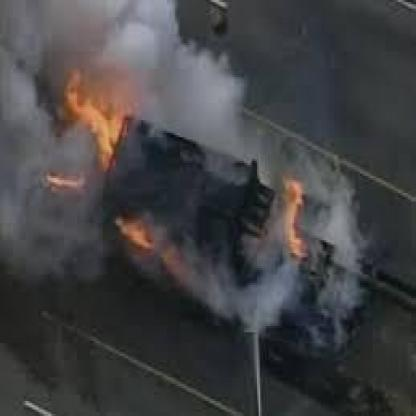fire: (50, 57, 138, 192), (113, 213, 185, 270), (269, 167, 310, 257)
smoke: (1, 78, 91, 274), (1, 0, 175, 77), (183, 47, 244, 142)
